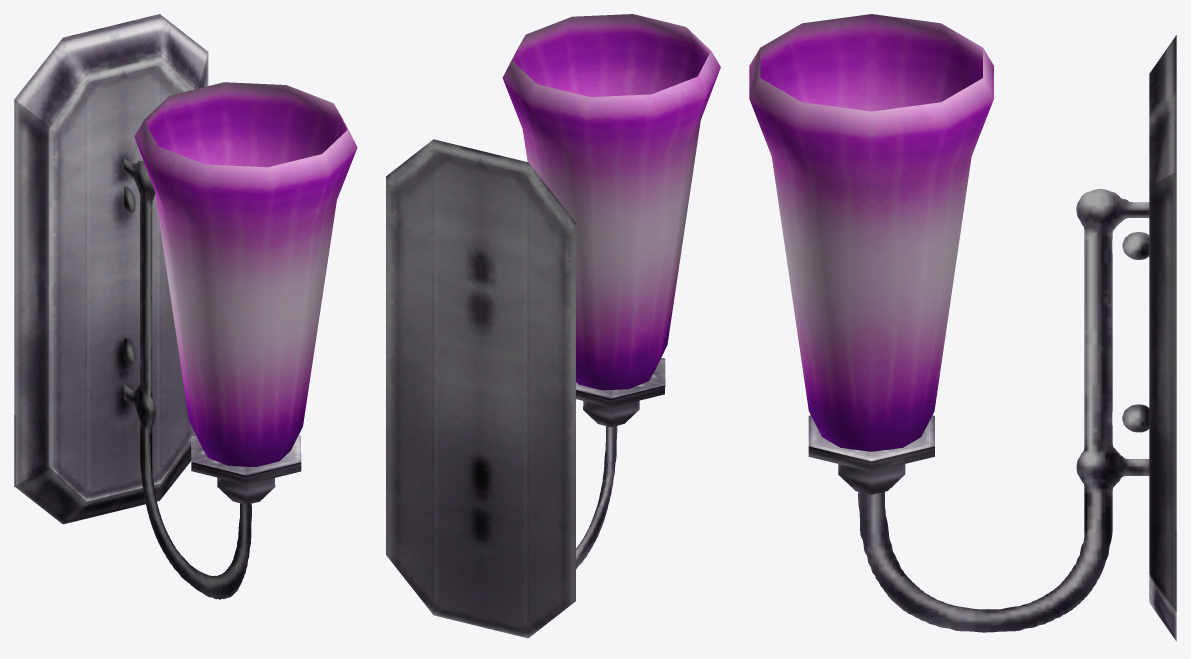
The model's file is furni_0201100_01.FBX.
3 views of the same model, side by side, from view 1: azimuth 30°, elevation 25°; view 2: azimuth 150°, elevation 25°; view 3: azimuth 270°, elevation 25° (orthographic). The views are drawn at different scales.
Parts seen in each view (by area): view 1: furni_0201100; view 2: furni_0201100; view 3: furni_0201100.
Part boxes in pixels (bbox=[...]): furni_0201100: bbox=[14, 14, 357, 599]; furni_0201100: bbox=[386, 14, 720, 638]; furni_0201100: bbox=[749, 14, 1176, 641].
Bounding box in the file's own units: 20.71 × 52.29 × 34.72.
1 material, 1 textured.
